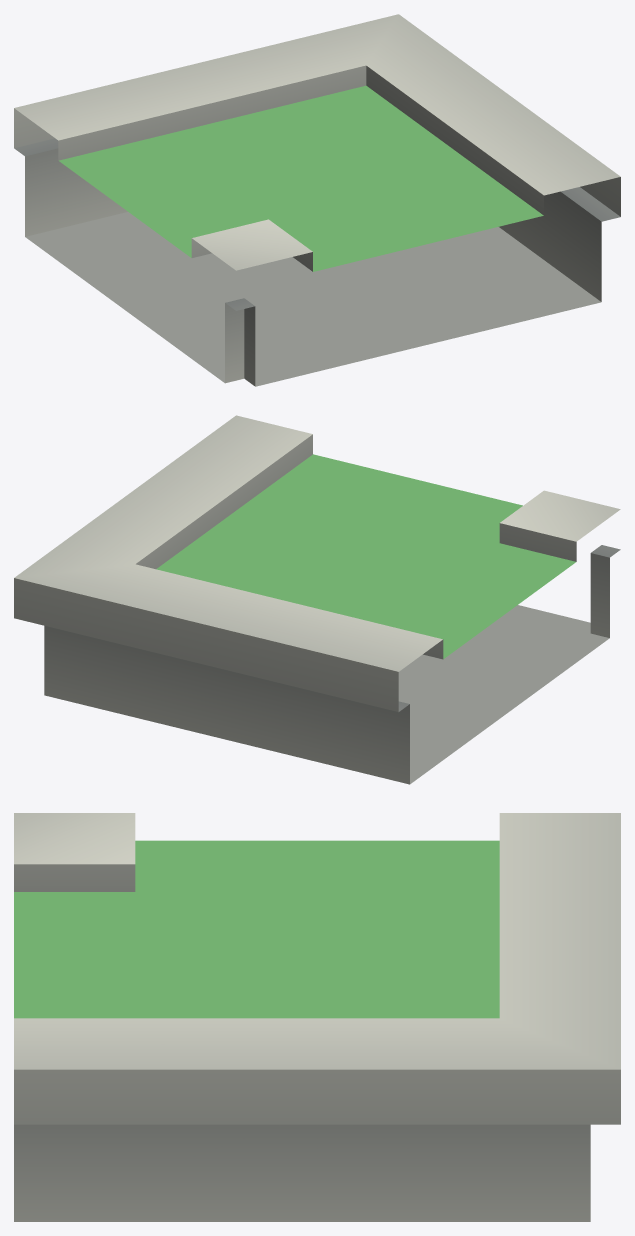
Rendered from Planter_Corner_Medium_01.fbx.
3 views of the same model, one above another, from view 1: azimuth 30°, elevation 25°; view 2: azimuth 150°, elevation 25°; view 3: azimuth 270°, elevation 25° (orthographic). The views are drawn at different scales.
Parts seen in each view (by area): view 1: Planter_Corner_Medium_01; view 2: Planter_Corner_Medium_01; view 3: Planter_Corner_Medium_01.
Part boxes in pixels (x1,y1,x2,y2): Planter_Corner_Medium_01: (14,14,620,386); Planter_Corner_Medium_01: (14,415,620,784); Planter_Corner_Medium_01: (14,813,620,1221).
Bounding box in the file's own units: 200 × 60 × 200.
